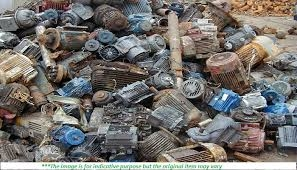metal: (149, 84, 207, 135), (201, 48, 253, 94), (95, 119, 147, 161), (161, 8, 188, 85), (35, 21, 94, 55), (151, 138, 227, 163), (227, 120, 273, 157), (236, 33, 280, 71), (137, 125, 184, 159), (1, 45, 39, 87), (108, 79, 154, 113), (1, 81, 34, 123), (91, 2, 131, 35), (204, 83, 243, 116), (112, 32, 151, 64), (48, 119, 86, 150), (54, 71, 92, 101), (178, 77, 208, 100), (272, 120, 297, 147), (94, 43, 124, 64), (89, 87, 113, 105)
